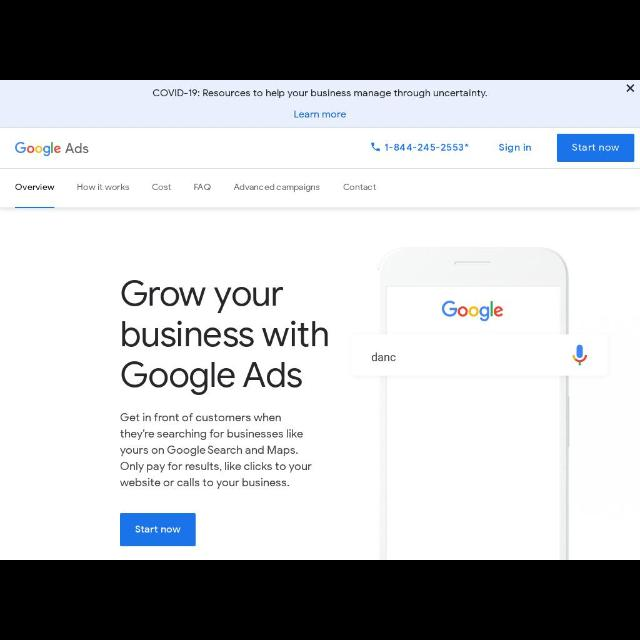icon: (372, 143, 381, 151), (626, 84, 634, 92)
image: (352, 247, 608, 558), (16, 142, 88, 156)
multitab: (1, 168, 638, 208)
text: (120, 280, 328, 396), (120, 414, 312, 488), (153, 90, 487, 98), (234, 184, 320, 192), (386, 144, 468, 150), (78, 183, 128, 190), (294, 112, 346, 118), (572, 144, 620, 150), (136, 526, 180, 532), (500, 144, 530, 152), (16, 184, 54, 190), (344, 184, 376, 190), (152, 184, 172, 190), (194, 184, 212, 190)
textbutton: (120, 514, 196, 546), (558, 134, 634, 162)
